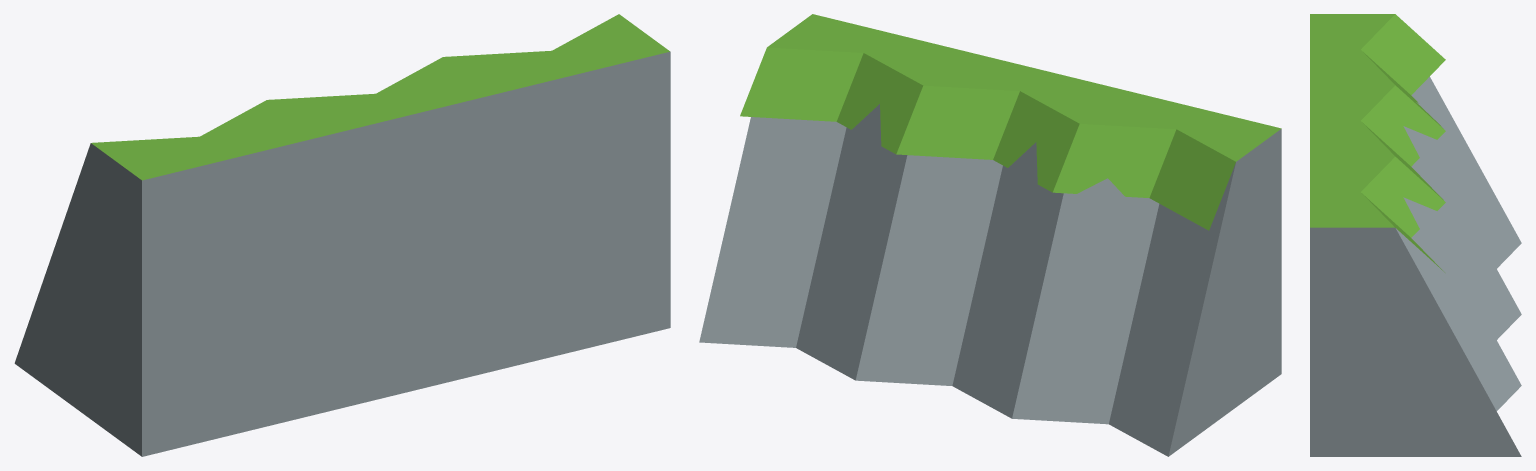
File: cliff_half_stone.glb
3 renders of one model, left to right at view 1: azimuth 30°, elevation 25°; view 2: azimuth 150°, elevation 25°; view 3: azimuth 270°, elevation 25°, orthographic. The views are drawn at different scales.
Visible parts, largest first — view 1: cliff_half_stone; view 2: cliff_half_stone; view 3: cliff_half_stone.
Boxes of the visible parts, x1,y1,x2,y2 form: cliff_half_stone: (14,14,670,456); cliff_half_stone: (699,14,1281,456); cliff_half_stone: (1310,14,1521,456).
Bounding box in the file's own units: 1 × 0.5 × 0.4185.
